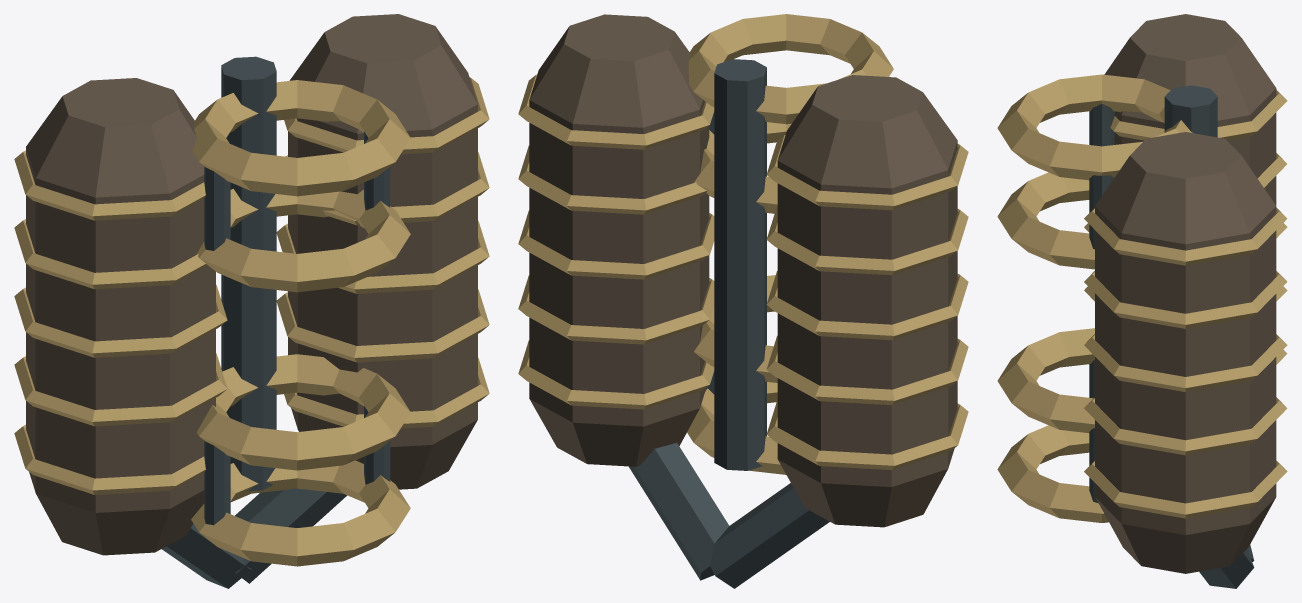
Rendered from Equip_TwinBellows.fbx.
3 renders of one model, left to right at view 1: azimuth 30°, elevation 25°; view 2: azimuth 150°, elevation 25°; view 3: azimuth 270°, elevation 25°, orthographic. The views are drawn at different scales.
Parts seen in each view (by area): view 1: Equip_TwinBellows; view 2: Equip_TwinBellows; view 3: Equip_TwinBellows.
Part boxes in pixels (left/top/right/bottom): Equip_TwinBellows: left=14, top=14, right=489, bottom=588; Equip_TwinBellows: left=518, top=14, right=968, bottom=588; Equip_TwinBellows: left=997, top=14, right=1287, bottom=588.
Bounding box in the file's own units: 0.346 × 0.3831 × 0.208.
